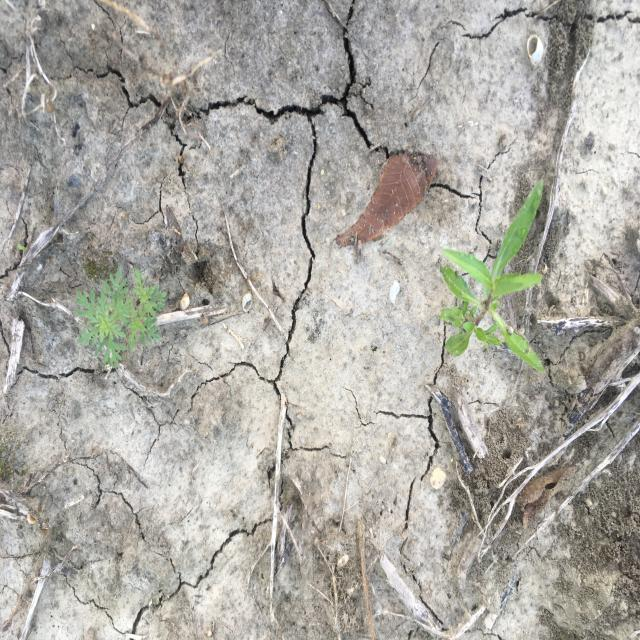Eclipta: (438, 178, 548, 376)
Ragweed: (71, 264, 169, 372)
